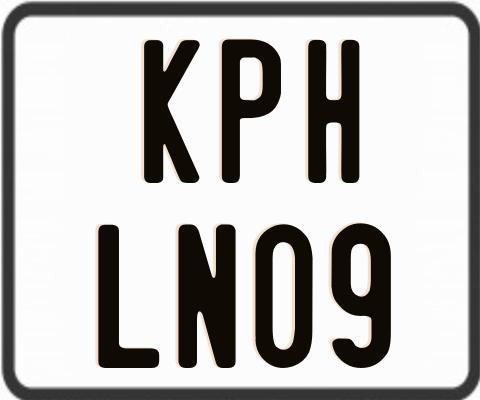0: (255, 224, 317, 369)
9: (328, 222, 392, 371)
H: (308, 40, 361, 185)
K: (144, 37, 202, 182)
L: (97, 224, 164, 367)
N: (177, 224, 241, 373)
P: (222, 38, 282, 188)
